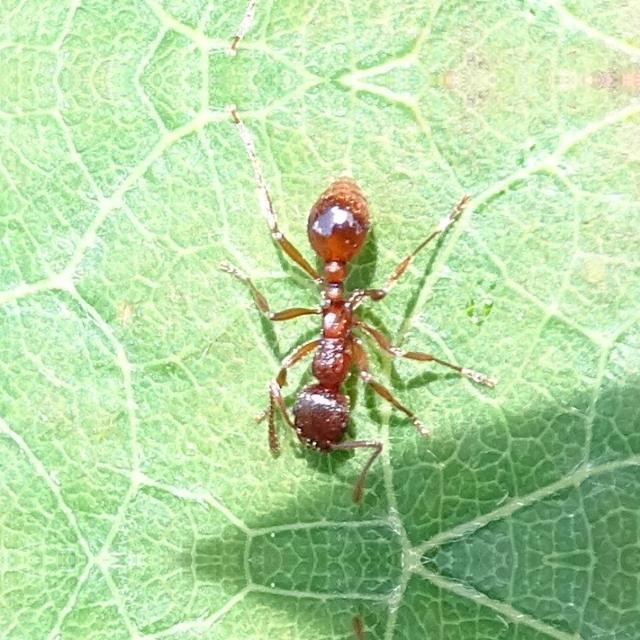Myrmica: (212, 142, 426, 462)
